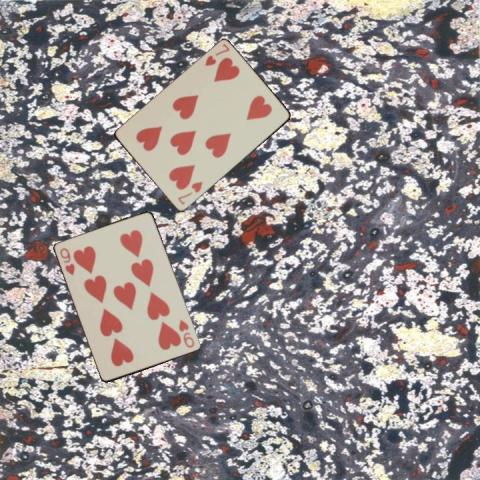7h: (175, 179, 204, 206), (202, 41, 231, 68)
9h: (176, 316, 196, 349), (57, 245, 77, 277)
